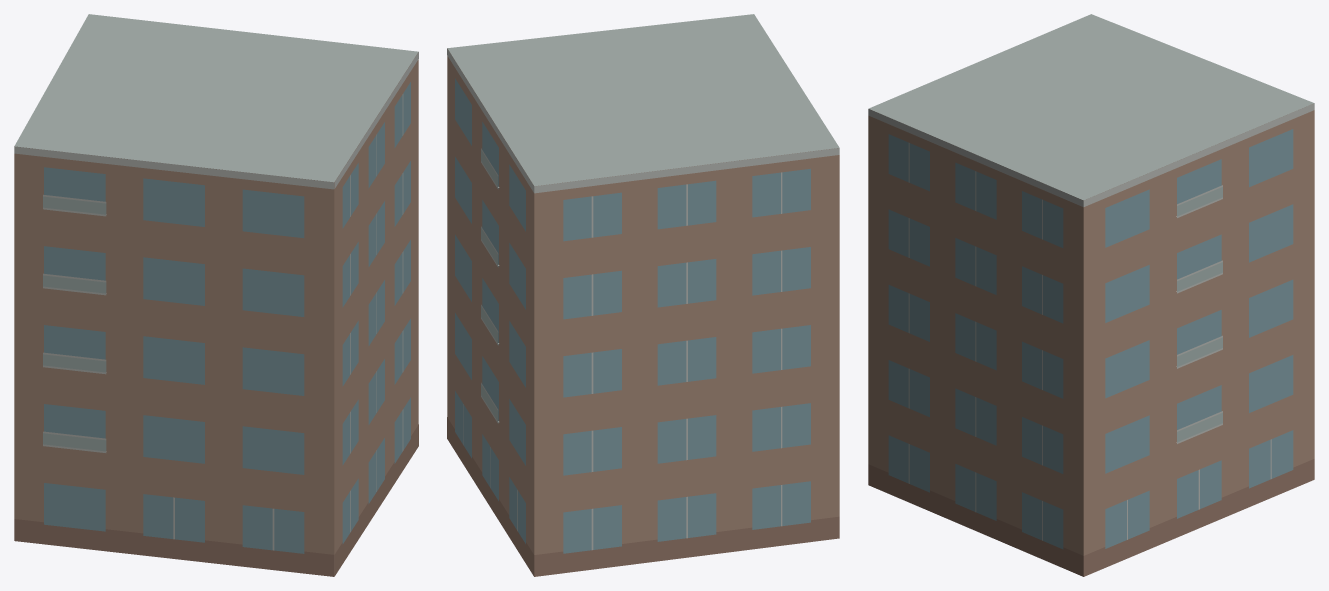
The model's file is survey-upis-32815259.glb.
3 renders of one model, left to right at view 1: azimuth 30°, elevation 25°; view 2: azimuth 150°, elevation 25°; view 3: azimuth 270°, elevation 25°, orthographic. The views are drawn at different scales.
Parts seen in each view (by area): view 1: survey-upis-32815259.tmp; view 2: survey-upis-32815259.tmp; view 3: survey-upis-32815259.tmp.
Boxes of the visible parts, x1,y1,x2,y2 form: survey-upis-32815259.tmp: (14, 14, 418, 576); survey-upis-32815259.tmp: (447, 14, 839, 576); survey-upis-32815259.tmp: (868, 14, 1314, 576).
Bounding box in the file's own units: 14.24 × 13.4 × 14.4.
